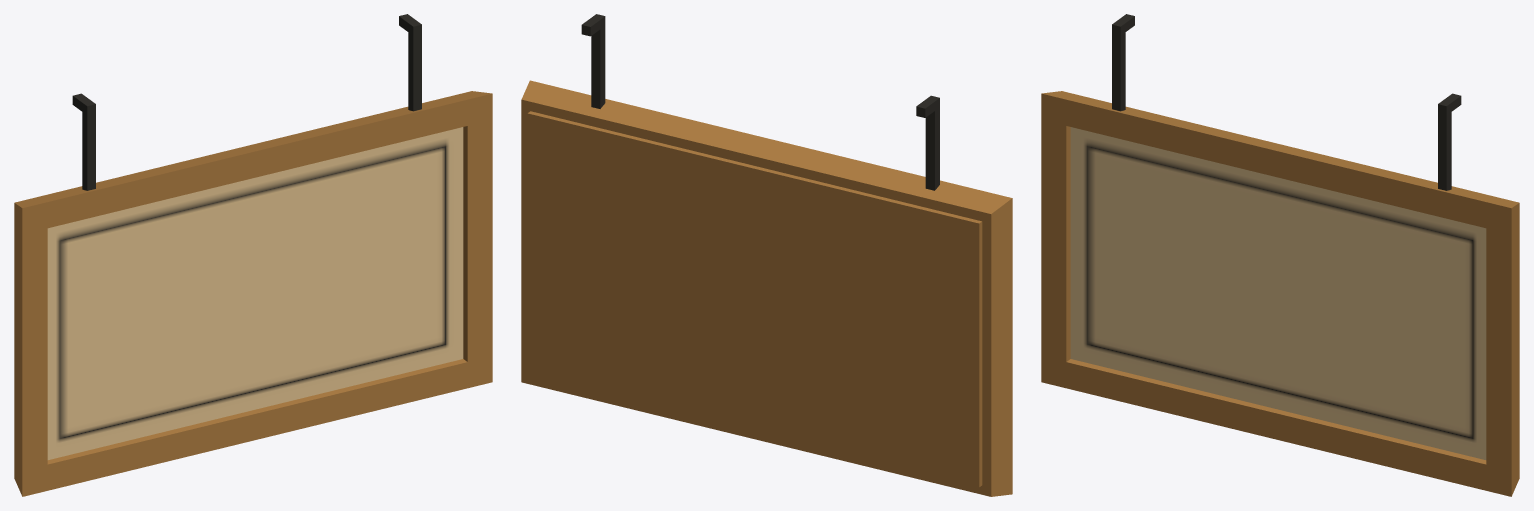
Rendered from SM_Cart_SorbetesSign_Blank_01.fbx.
The picture shows the model from 3 angles, left to right: view 1: azimuth 30°, elevation 25°; view 2: azimuth 150°, elevation 25°; view 3: azimuth 330°, elevation 25°; orthographic projection. The views are drawn at different scales.
Visible parts, largest first — view 1: SM_Cart_SorbetesSign_Blank_01; view 2: SM_Cart_SorbetesSign_Blank_01; view 3: SM_Cart_SorbetesSign_Blank_01.
Boxes of the visible parts, x1,y1,x2,y2 form: SM_Cart_SorbetesSign_Blank_01: (14,14,492,496); SM_Cart_SorbetesSign_Blank_01: (521,14,1012,496); SM_Cart_SorbetesSign_Blank_01: (1041,14,1519,496).
Bounding box in the file's own units: 0.375 × 0.2835 × 0.024.
1 material, 1 textured.
